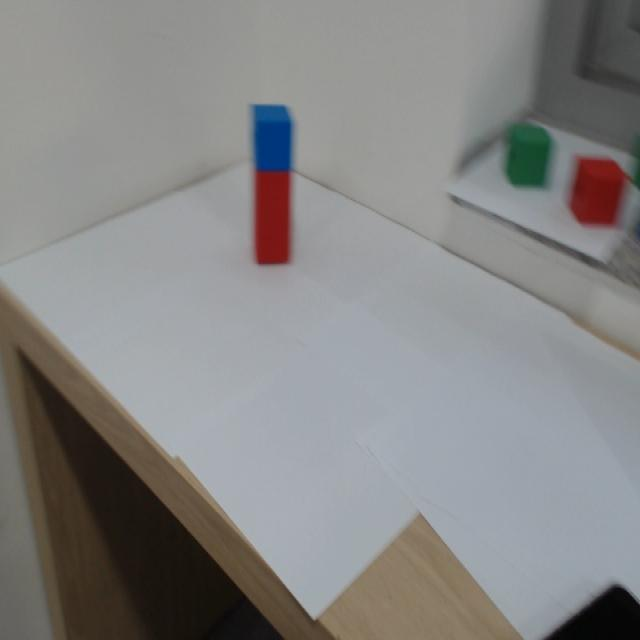cube: (235, 97, 314, 173)
